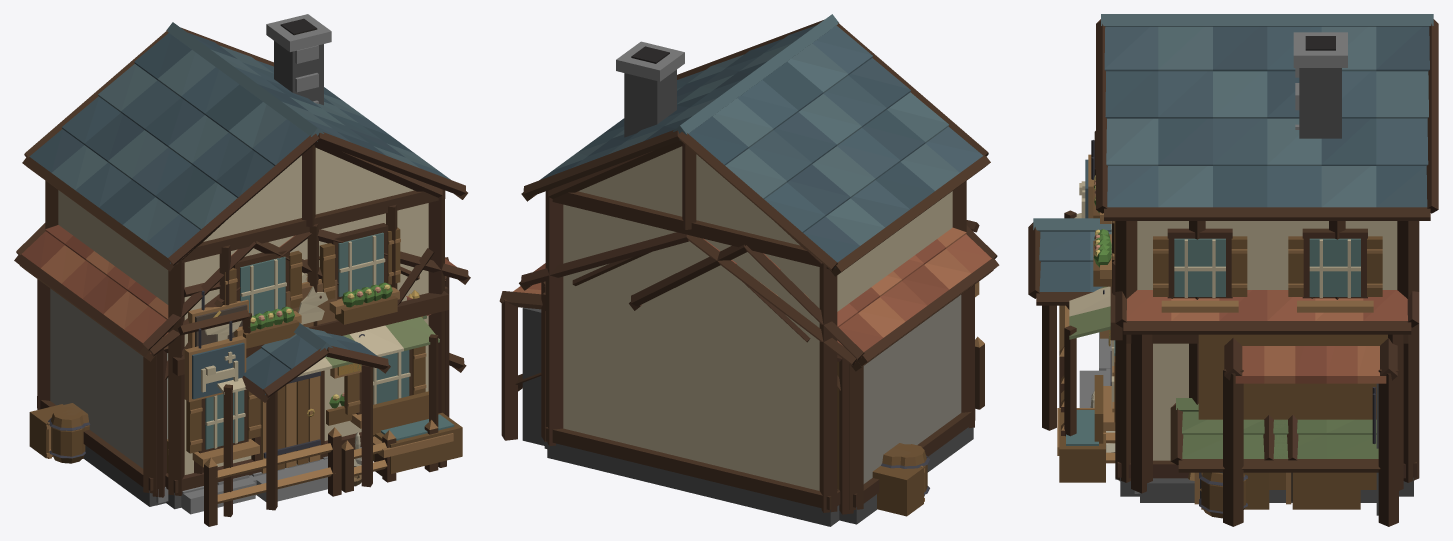
Rendered from town.glb.
3 renders of one model, left to right at view 1: azimuth 30°, elevation 25°; view 2: azimuth 150°, elevation 25°; view 3: azimuth 270°, elevation 25°, orthographic. The views are drawn at different scales.
Visible parts, largest first — view 1: town_inn_a, town_blacksmith_a, town_stable_a, town_pet_shop_a; view 2: town_inn_a, town_blacksmith_a, town_stable_a, town_pet_shop_a; view 3: town_inn_a, town_stable_a, town_pet_shop_a, town_blacksmith_a.
Part boxes in pixels (<box>): town_inn_a: <box>22,14,467,510</box>; town_blacksmith_a: <box>14,223,448,514</box>; town_stable_a: <box>20,229,470,526</box>; town_pet_shop_a: <box>217,235,466,517</box>; town_inn_a: <box>521,14,990,526</box>; town_blacksmith_a: <box>499,225,999,524</box>; town_stable_a: <box>519,232,993,523</box>; town_pet_shop_a: <box>515,239,810,391</box>; town_inn_a: <box>1028,14,1438,496</box>; town_stable_a: <box>1059,290,1419,502</box>; town_pet_shop_a: <box>1061,210,1380,509</box>; town_blacksmith_a: <box>1099,332,1398,526</box>.
Bounding box in the file's own units: 5.02 × 4.79 × 4.22.
